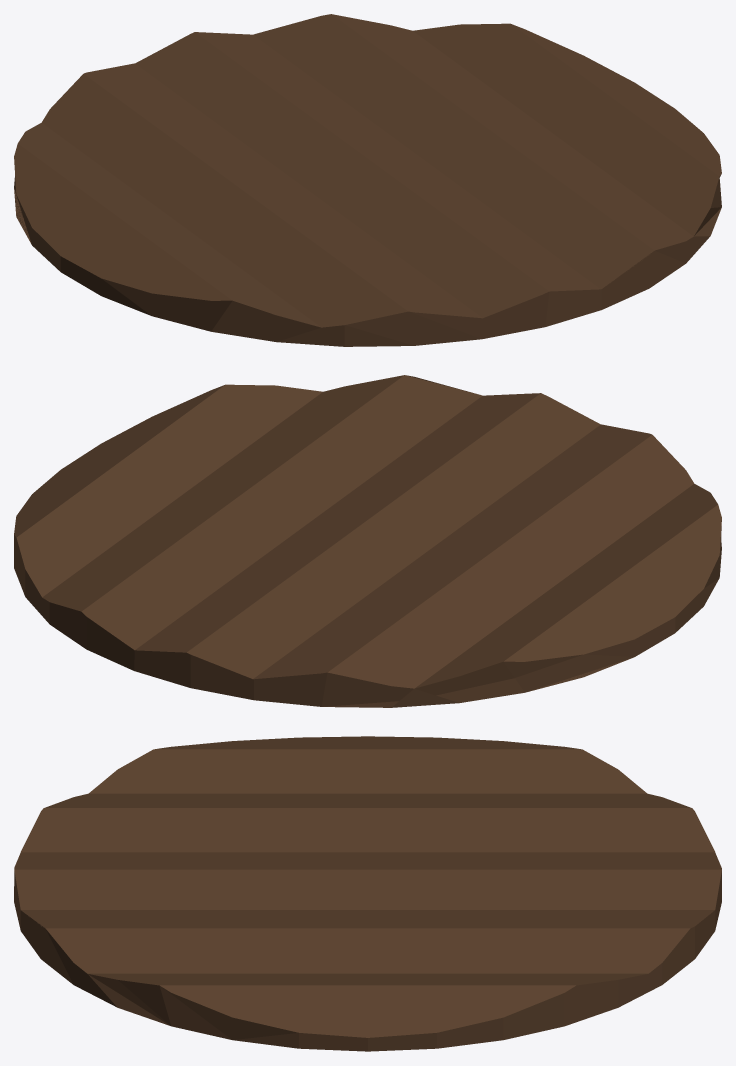
The model's file is suelo.glb.
3 renders of one model, top to bottom at view 1: azimuth 30°, elevation 25°; view 2: azimuth 150°, elevation 25°; view 3: azimuth 270°, elevation 25°, orthographic.
Visible parts, largest first — view 1: Cube; view 2: Cube; view 3: Cube.
Boxes of the visible parts, x1,y1,x2,y2 form: Cube: (14,14,721,346); Cube: (14,375,721,707); Cube: (14,736,721,1051).
Size of the model in its own units: 20 by 1.15 by 20.
